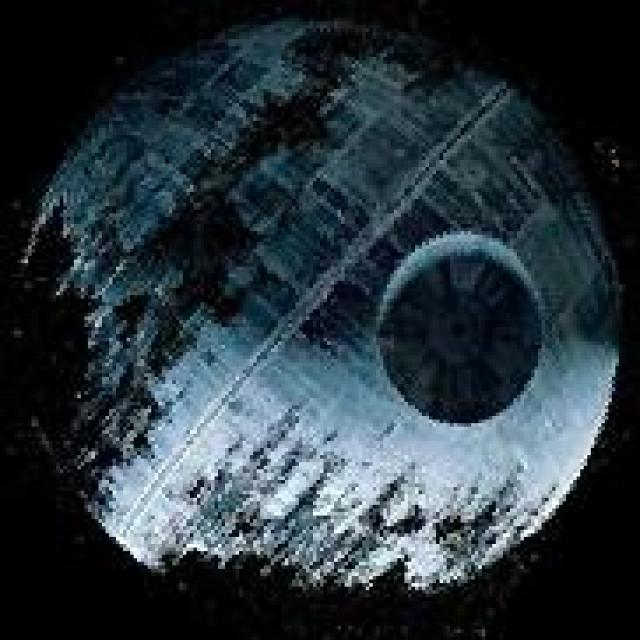Death Star: (14, 0, 633, 597)
